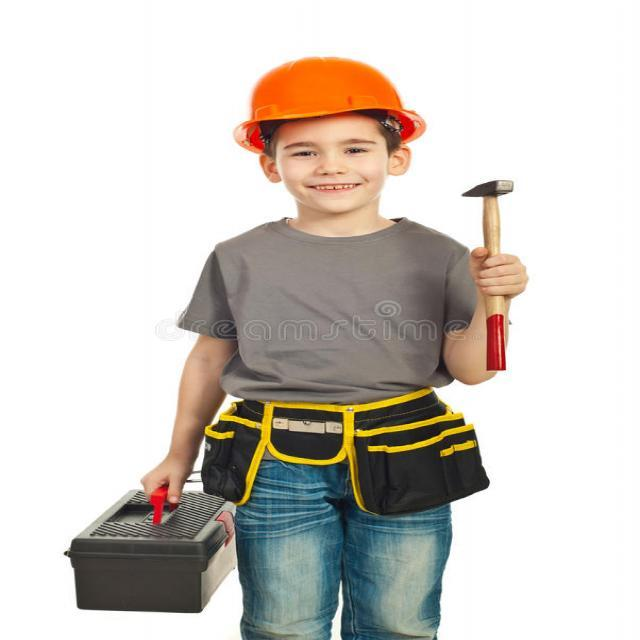hammer: (452, 172, 568, 383)
